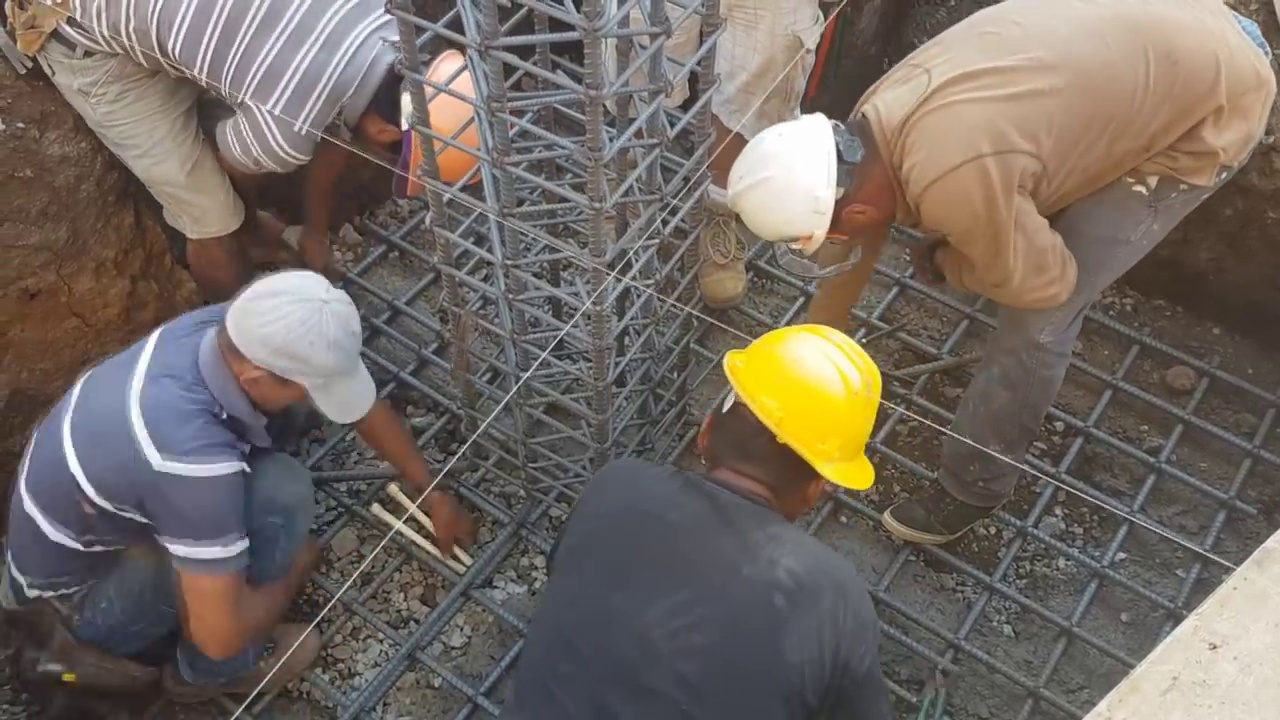helmet: (727, 322, 881, 497), (725, 108, 863, 248), (404, 37, 489, 192)
helmet-off: (212, 271, 374, 431)
helmet-on: (682, 316, 888, 532), (726, 93, 921, 270), (344, 25, 496, 198)
person: (721, 2, 1279, 541), (13, 263, 480, 684), (513, 318, 884, 719), (8, 0, 518, 286), (598, 6, 835, 316)
